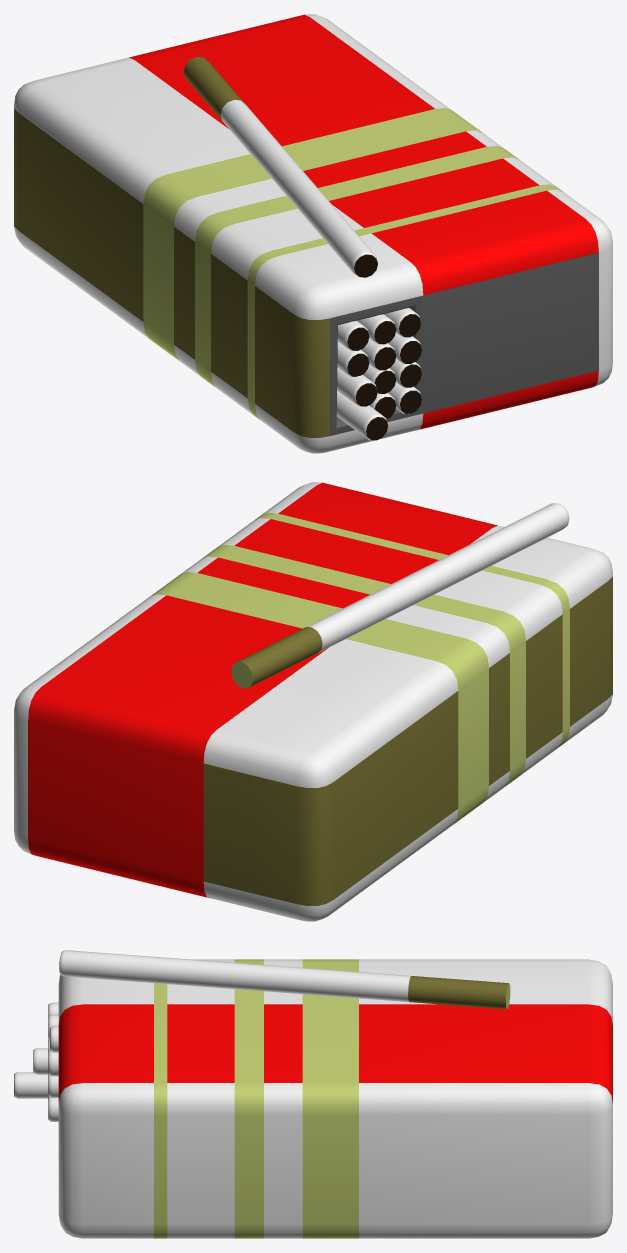
File: PackCigarrillos.fbx
3 renders of one model, top to bottom at view 1: azimuth 30°, elevation 25°; view 2: azimuth 150°, elevation 25°; view 3: azimuth 270°, elevation 25°, orthographic. The views are drawn at different scales.
Parts seen in each view (by area): view 1: Pack; view 2: Pack; view 3: Pack.
Boxes of the visible parts, x1,y1,x2,y2 form: Pack: (14,14,612,453); Pack: (14,482,612,921); Pack: (14,950,612,1238).
Bounding box in the file's own units: 0.0988 × 0.0591 × 0.1772.
